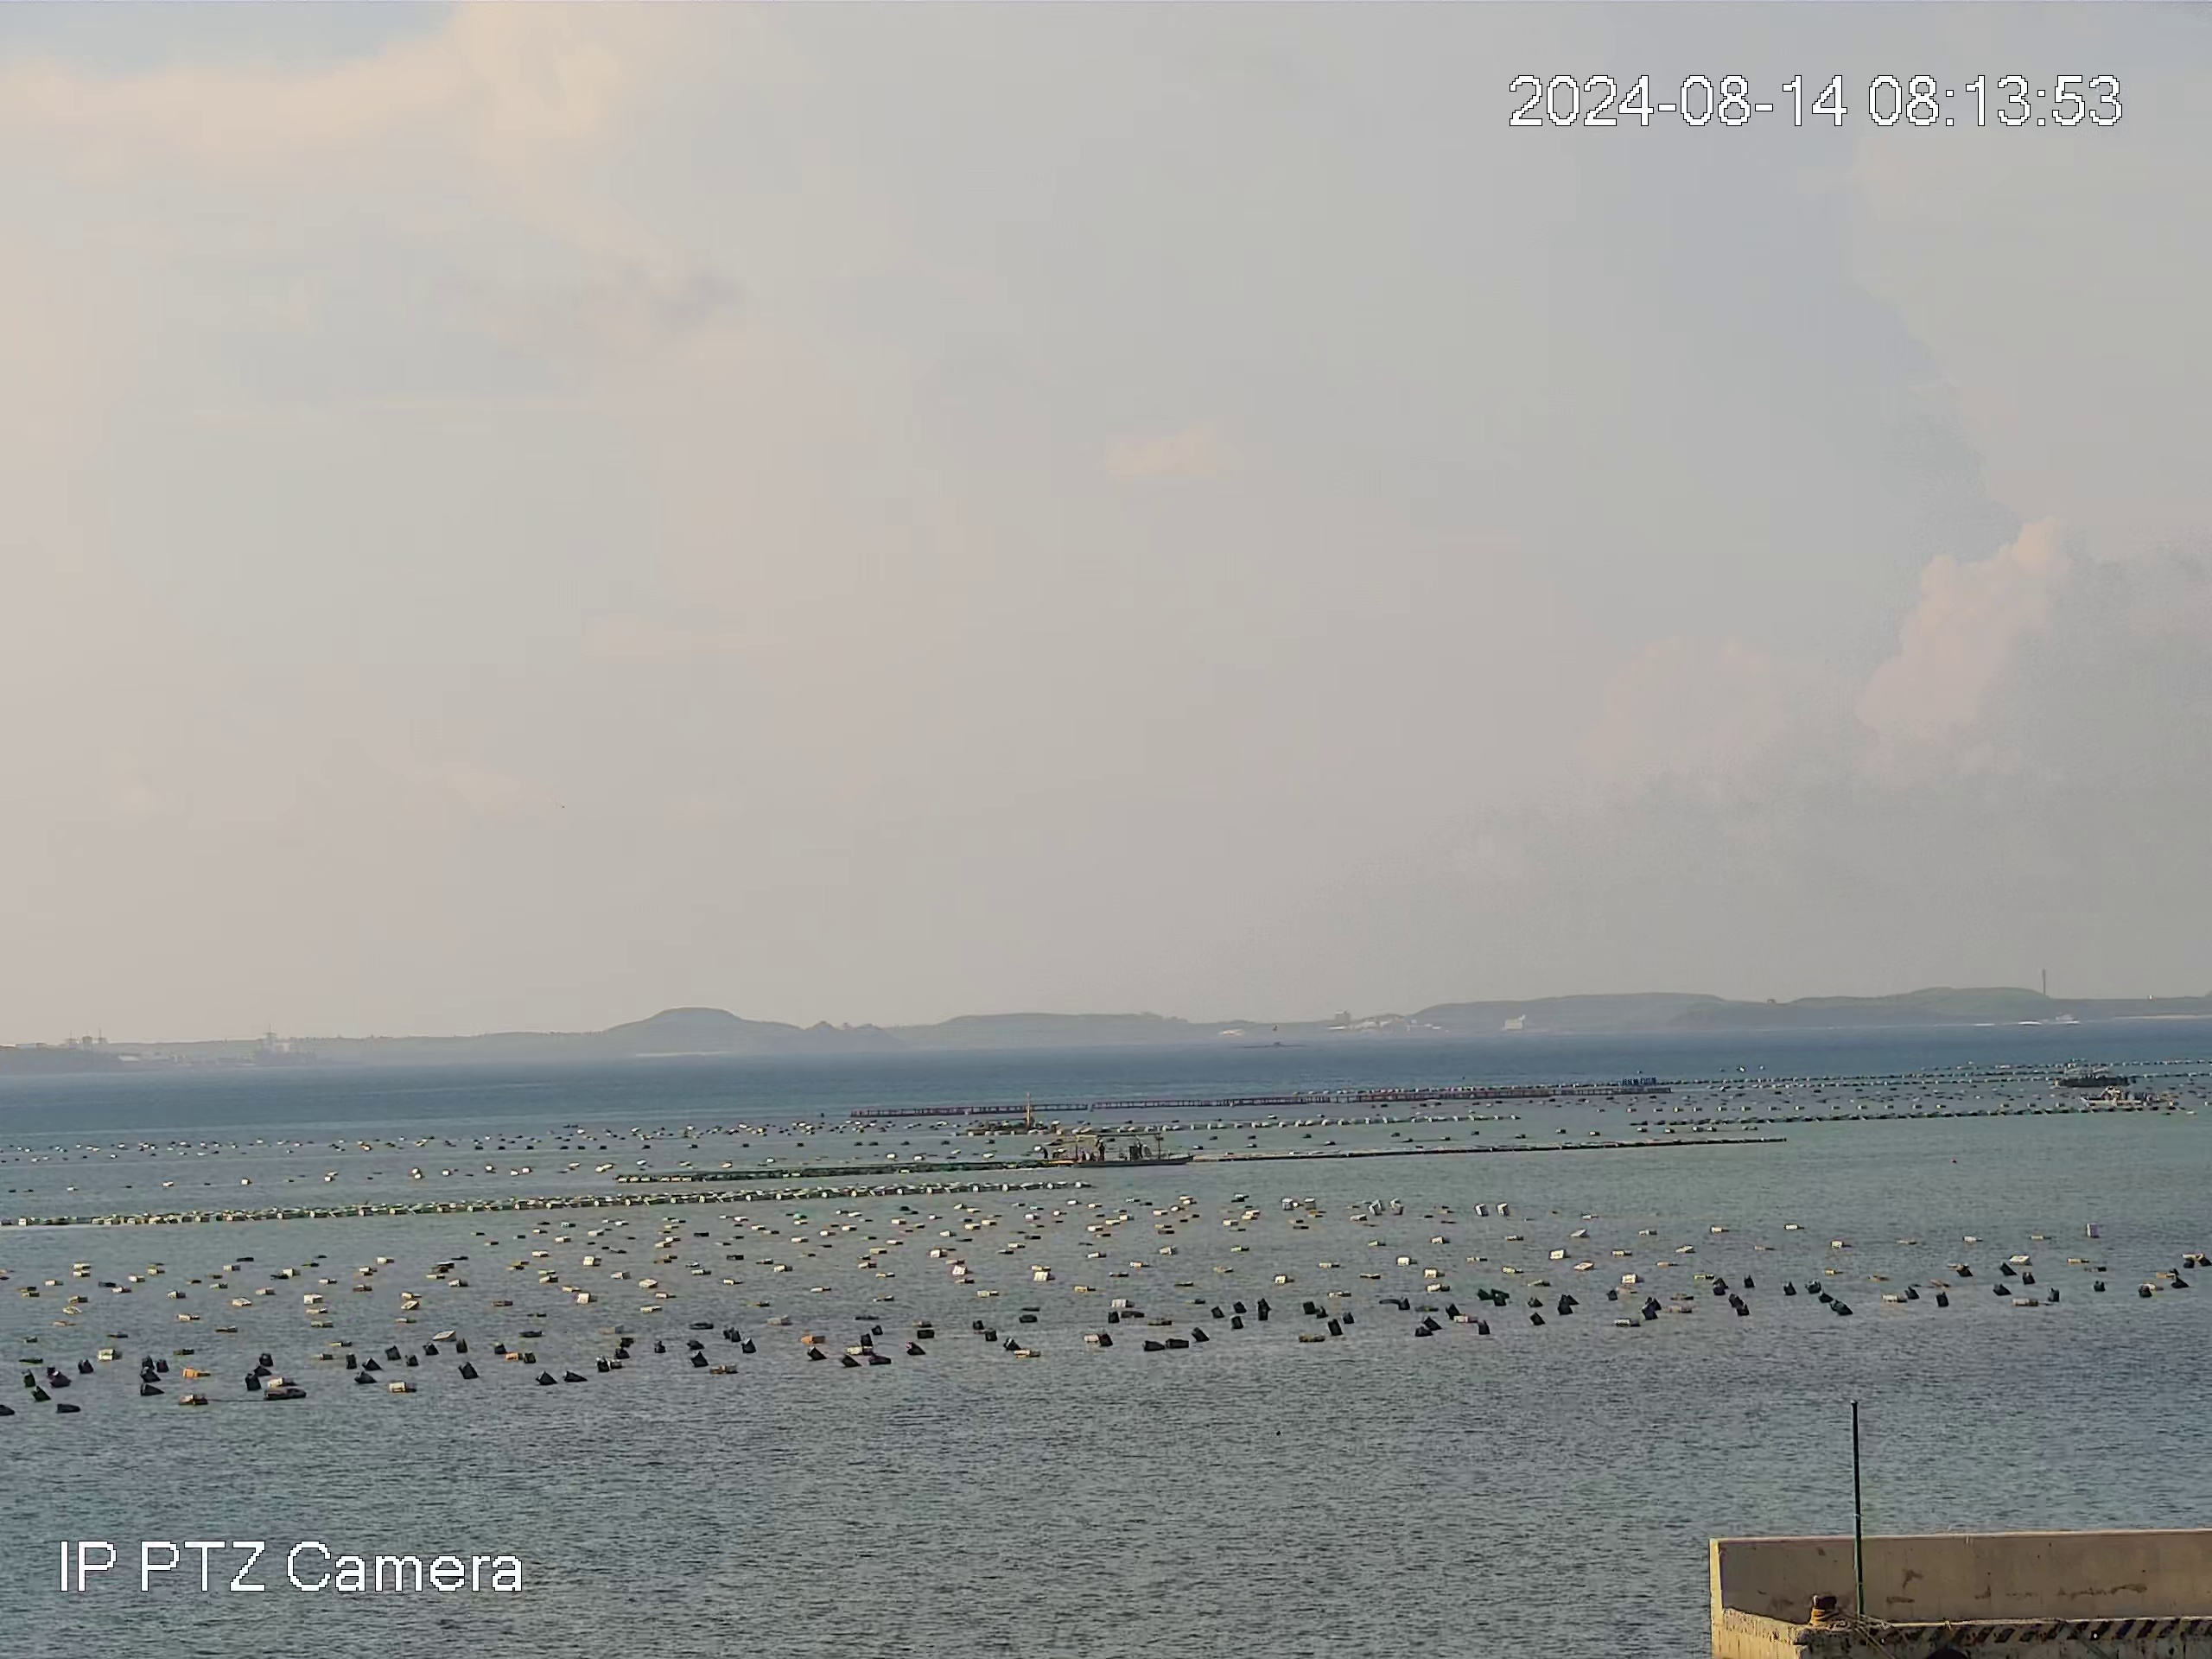boat: (1031, 1127, 1188, 1168), (2083, 1084, 2165, 1110), (2048, 1065, 2132, 1084)
